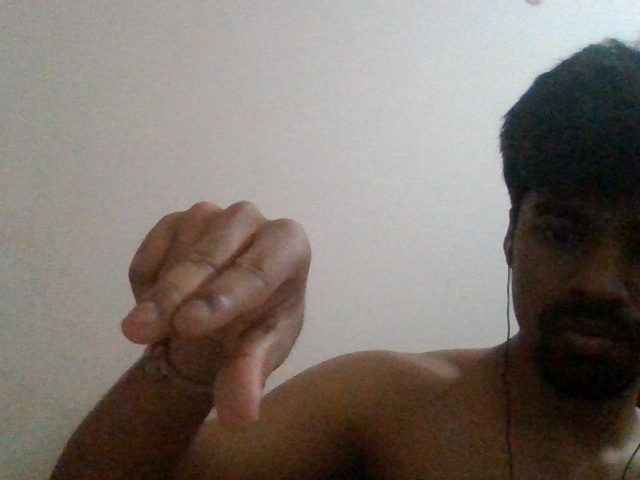No: (102, 193, 326, 444)
